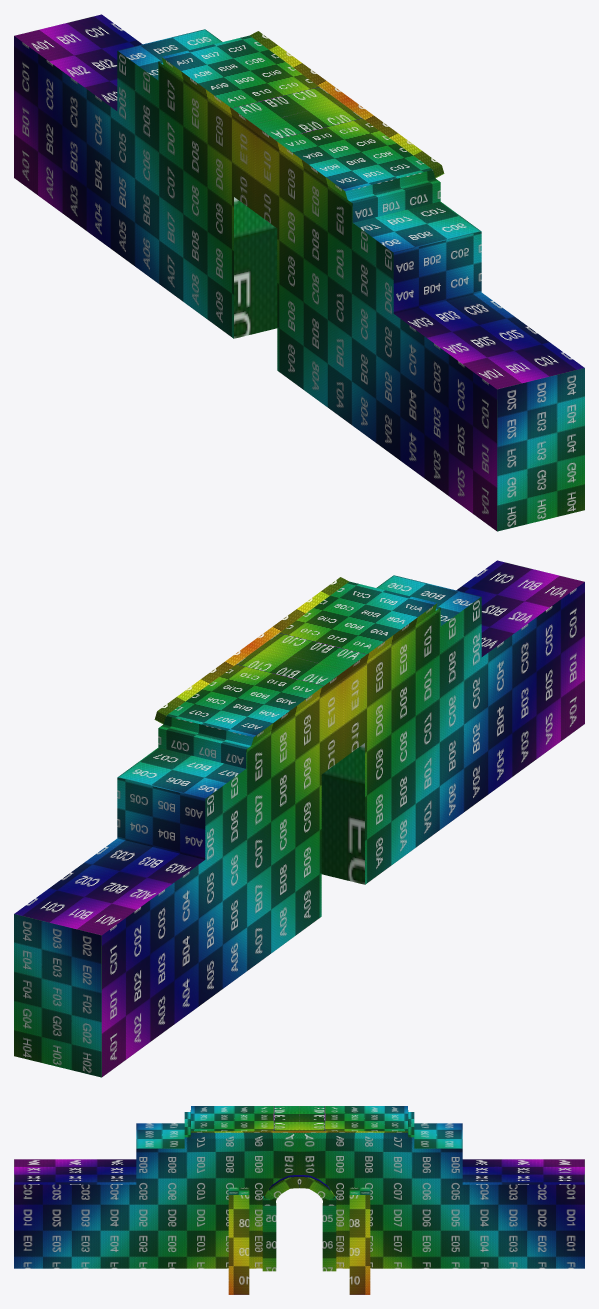
File: castle_body.fbx
3 views of the same model, one above another, from view 1: azimuth 30°, elevation 25°; view 2: azimuth 150°, elevation 25°; view 3: azimuth 270°, elevation 25° (orthographic). The views are drawn at different scales.
Parts seen in each view (by area): view 1: 立方体.001; view 2: 立方体.001; view 3: 立方体.001.
Boxes of the visible parts, x1,y1,x2,y2 form: 立方体.001: [14, 14, 584, 531]; 立方体.001: [14, 560, 584, 1077]; 立方体.001: [14, 1106, 584, 1294].
Size of the model in its own units: 3497 by 5291 by 18843.
